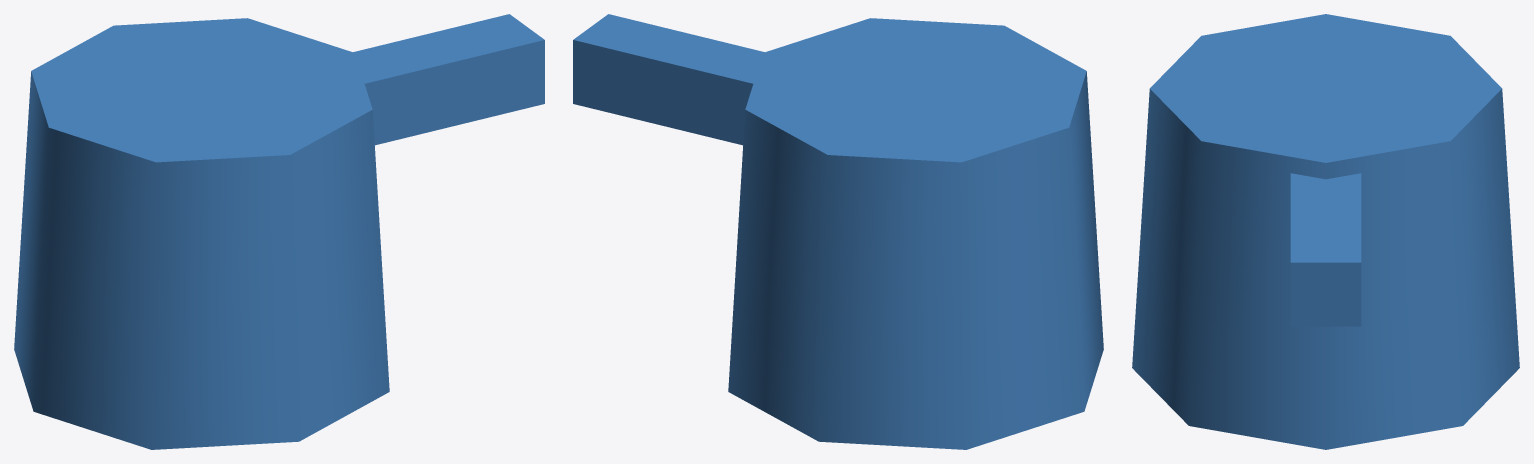
File: watering_can.glb
3 views of the same model, side by side, from view 1: azimuth 30°, elevation 25°; view 2: azimuth 150°, elevation 25°; view 3: azimuth 270°, elevation 25° (orthographic).
Parts seen in each view (by area): view 1: watering_can; view 2: watering_can; view 3: watering_can.
Boxes of the visible parts, left/top/right/bottom form: watering_can: left=14, top=14, right=544, bottom=449; watering_can: left=573, top=14, right=1103, bottom=449; watering_can: left=1132, top=14, right=1519, bottom=449.
Bounding box in the file's own units: 0.645 × 0.35 × 0.44.
